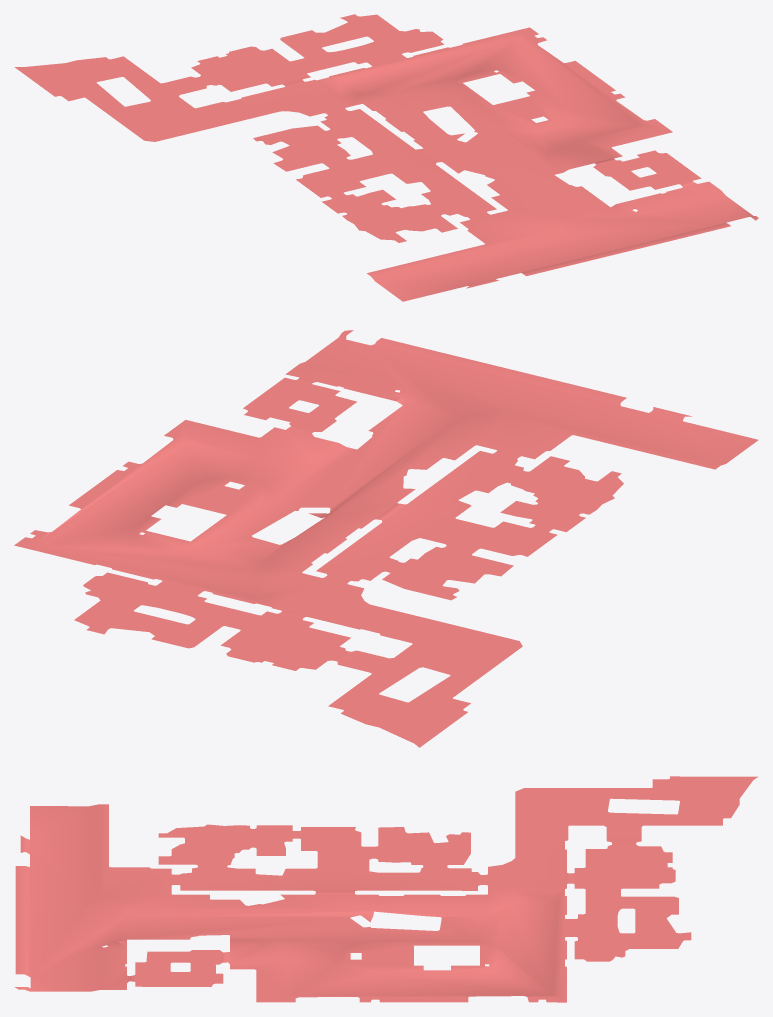
File: Prohibited_HOSPITAL.fbx
The picture shows the model from 3 angles, top to bottom: view 1: azimuth 30°, elevation 25°; view 2: azimuth 150°, elevation 25°; view 3: azimuth 270°, elevation 25°; orthographic projection. The views are drawn at different scales.
Parts seen in each view (by area): view 1: Hospital; view 2: Hospital; view 3: Hospital.
Boxes of the visible parts, x1,y1,x2,y2 form: Hospital: (14,14,758,301); Hospital: (14,330,758,747); Hospital: (14,776,758,1002).
Size of the model in its own units: 48.7 by 0.372 by 67.84.
